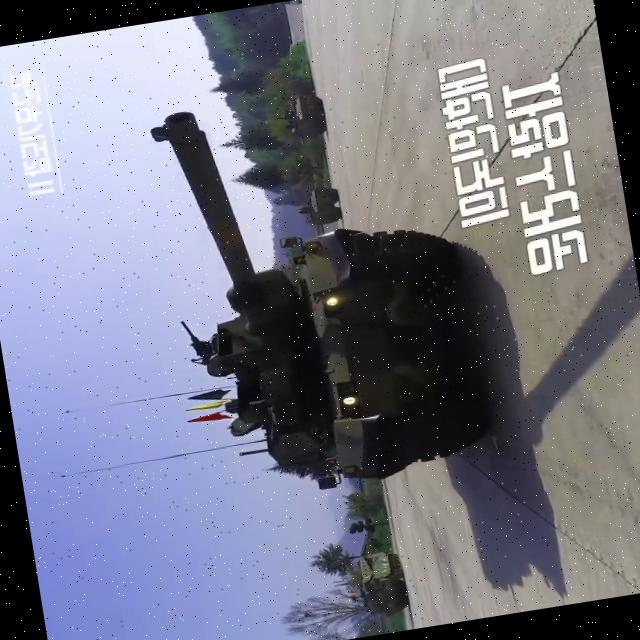korea tank: (139, 70, 505, 511)
